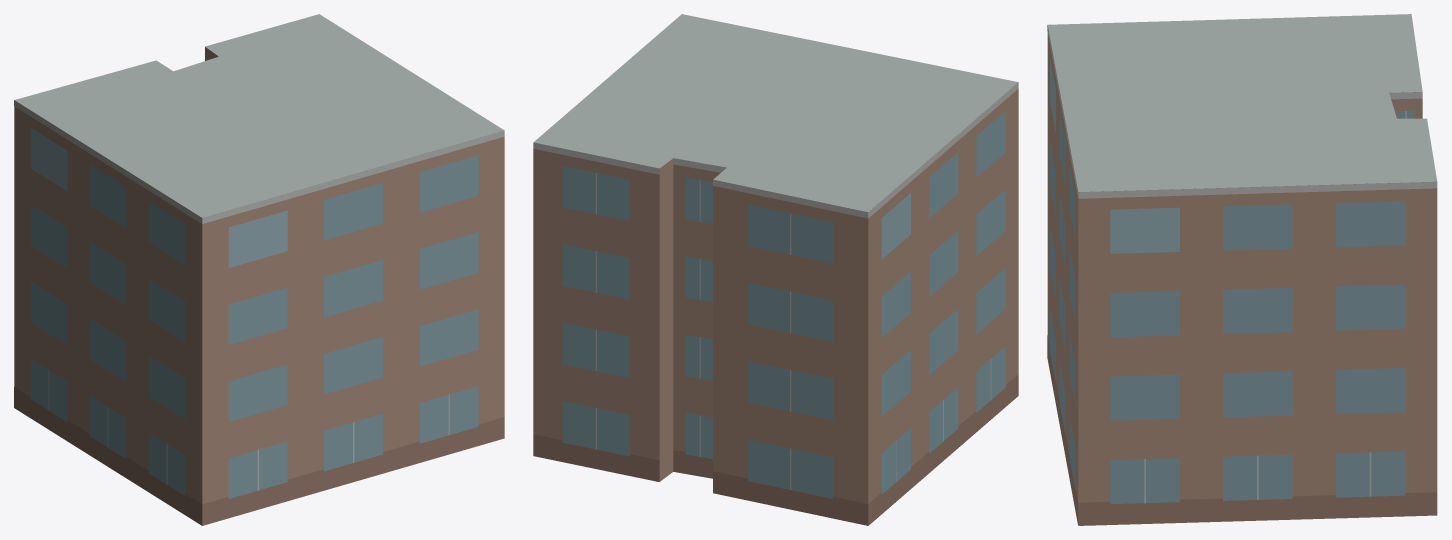
Rendered from survey-upis-32737177.glb.
3 views of the same model, side by side, from view 1: azimuth 30°, elevation 25°; view 2: azimuth 150°, elevation 25°; view 3: azimuth 270°, elevation 25° (orthographic). The views are drawn at different scales.
Parts seen in each view (by area): view 1: survey-upis-32737177.tmp; view 2: survey-upis-32737177.tmp; view 3: survey-upis-32737177.tmp.
Part boxes in pixels (bbox=[...]): survey-upis-32737177.tmp: bbox=[14, 14, 504, 525]; survey-upis-32737177.tmp: bbox=[533, 14, 1018, 525]; survey-upis-32737177.tmp: bbox=[1047, 14, 1437, 525].
Bounding box in the file's own units: 13.97 × 12.2 × 12.92.
